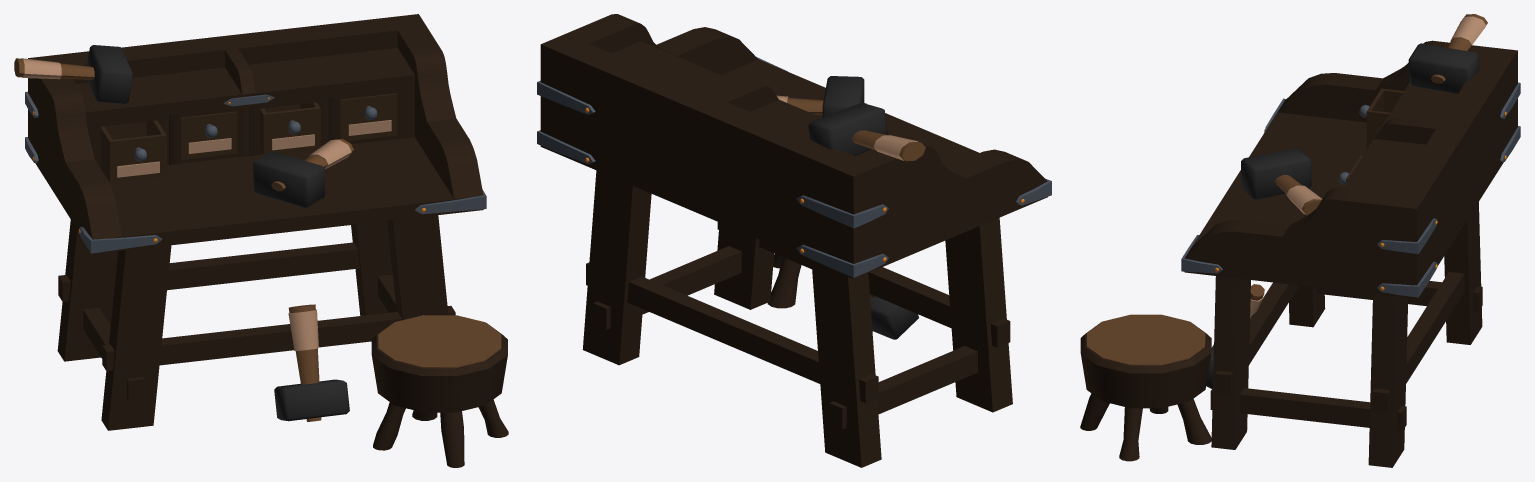
The model's file is Workbench.fbx.
The picture shows the model from 3 angles, left to right: view 1: azimuth 30°, elevation 25°; view 2: azimuth 150°, elevation 25°; view 3: azimuth 270°, elevation 25°; orthographic projection. The views are drawn at different scales.
Parts seen in each view (by area): view 1: table, chair.001, hammers, boxes, metal-plates, sph; view 2: table, hammers, metal-plates, chair.001; view 3: table, chair.001, hammers, metal-plates, boxes.
Boxes of the visible parts, box(x1,y1,x2,y2) form: table: box(28, 14, 483, 430); chair.001: box(371, 315, 508, 467); hammers: box(14, 45, 353, 421); boxes: box(100, 93, 397, 182); metal-plates: box(25, 91, 486, 253); sph: box(134, 107, 377, 161); table: box(540, 14, 1047, 467); hammers: box(776, 76, 925, 339); metal-plates: box(537, 57, 1051, 277); chair.001: box(767, 254, 801, 308); table: box(1184, 40, 1517, 467); chair.001: box(1080, 314, 1211, 461); hammers: box(1206, 14, 1487, 388); metal-plates: box(1181, 82, 1520, 297); boxes: box(1346, 88, 1403, 181).
Bounding box in the file's own units: 504 × 379 × 500.
